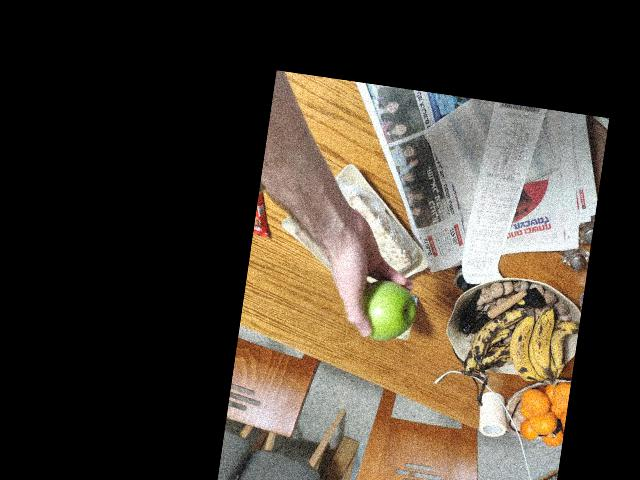apple: (346, 270, 420, 351)
